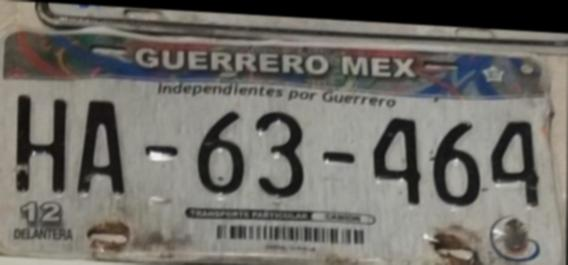License_Plate: (3, 14, 558, 265)
